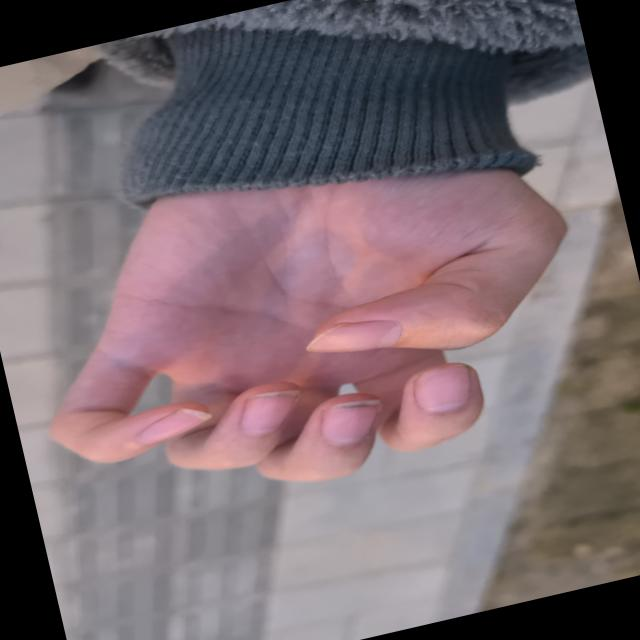Nail: (305, 318, 401, 351), (239, 389, 298, 435), (411, 365, 469, 410), (319, 399, 377, 443), (137, 408, 209, 443)
